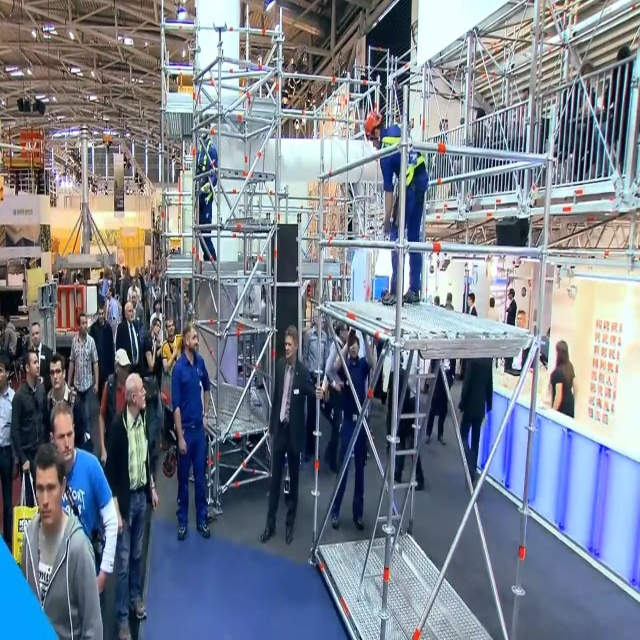Arnes_seguridad: (381, 123, 429, 201), (197, 142, 215, 194)
